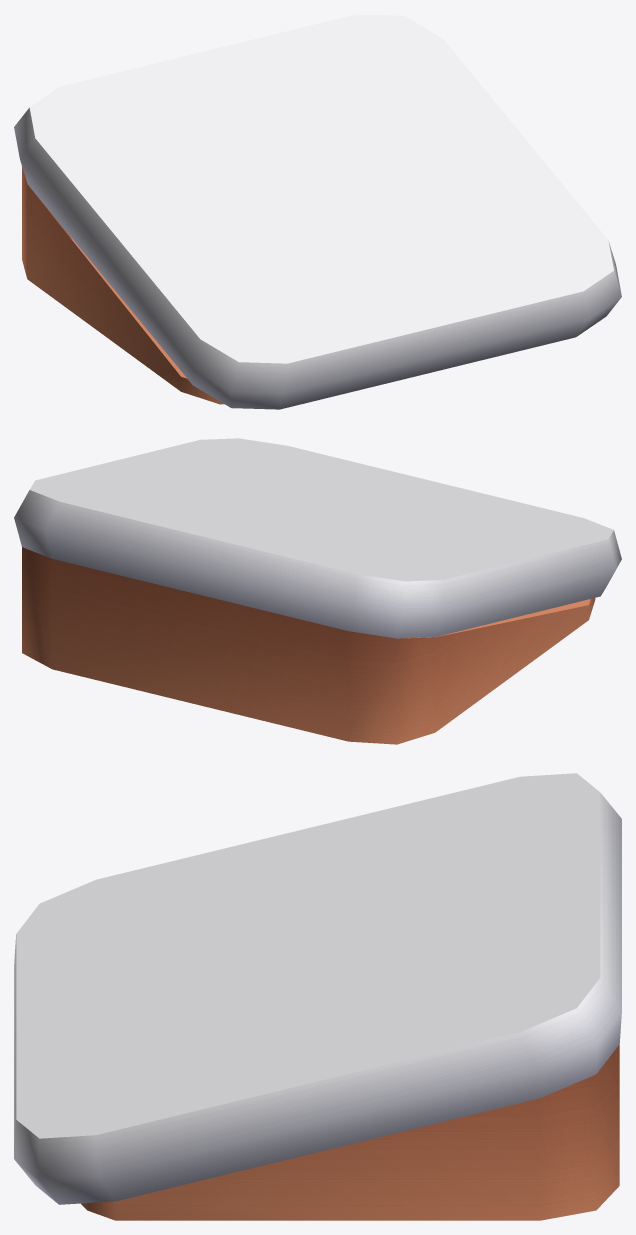
Rendered from block-snow-large-slope.glb.
3 renders of one model, top to bottom at view 1: azimuth 30°, elevation 25°; view 2: azimuth 150°, elevation 25°; view 3: azimuth 270°, elevation 25°, orthographic. The views are drawn at different scales.
Parts seen in each view (by area): view 1: block-snow-large-slope; view 2: block-snow-large-slope; view 3: block-snow-large-slope.
Part boxes in pixels (x1,y1,x2,y2): block-snow-large-slope: [14, 14, 621, 409]; block-snow-large-slope: [14, 438, 621, 744]; block-snow-large-slope: [14, 773, 621, 1220].
Size of the model in its own units: 2.08 by 0.7591 by 2.01.
Materials: 1 (1 with a texture image).
